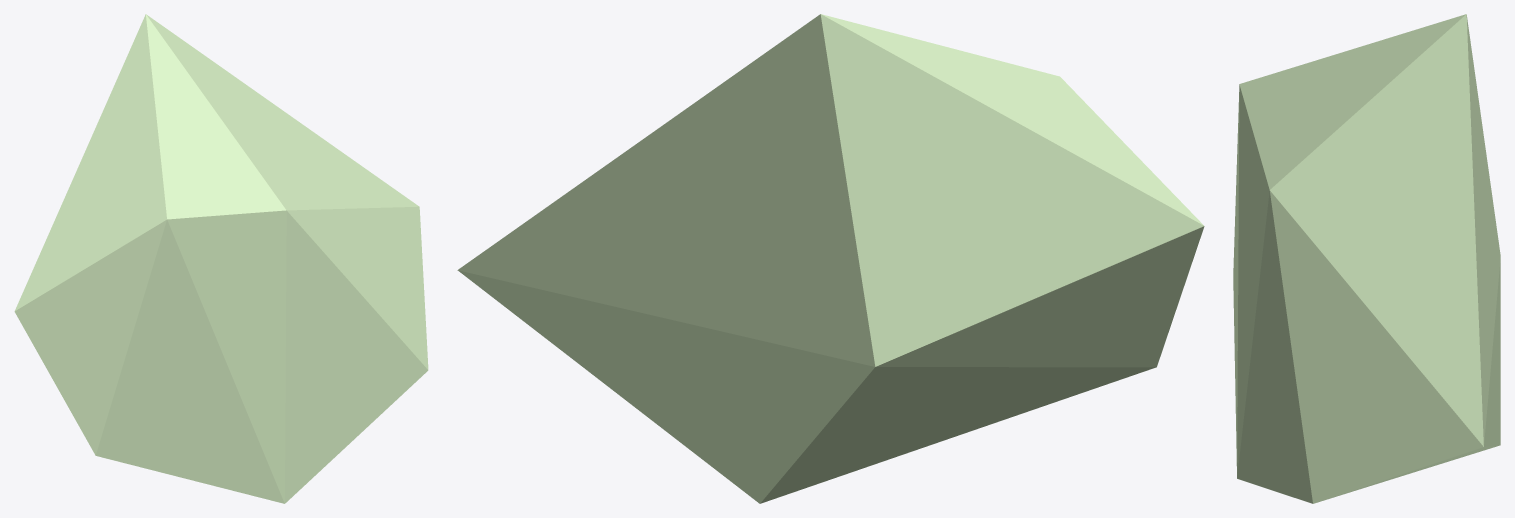
The model's file is kuka_URDF_robot_base_coll_15.dae.
3 views of the same model, side by side, from view 1: azimuth 30°, elevation 25°; view 2: azimuth 150°, elevation 25°; view 3: azimuth 270°, elevation 25° (orthographic). The views are drawn at different scales.
Parts seen in each view (by area): view 1: Node_0000020FCC58D8B0; view 2: Node_0000020FCC58D8B0; view 3: Node_0000020FCC58D8B0.
Boxes of the visible parts, left/top/right/bottom form: Node_0000020FCC58D8B0: left=14, top=14, right=428, bottom=503; Node_0000020FCC58D8B0: left=457, top=14, right=1204, bottom=503; Node_0000020FCC58D8B0: left=1233, top=14, right=1500, bottom=503.
Size of the model in its own units: 0.0317 by 0.0253 by 0.0137.
